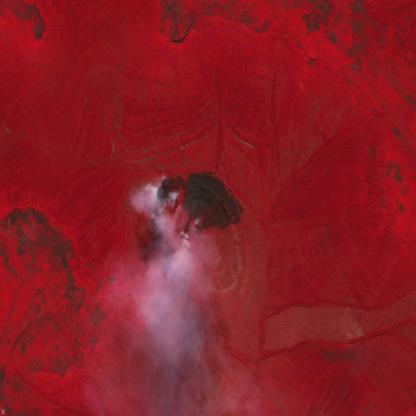fire: (154, 170, 204, 244)
